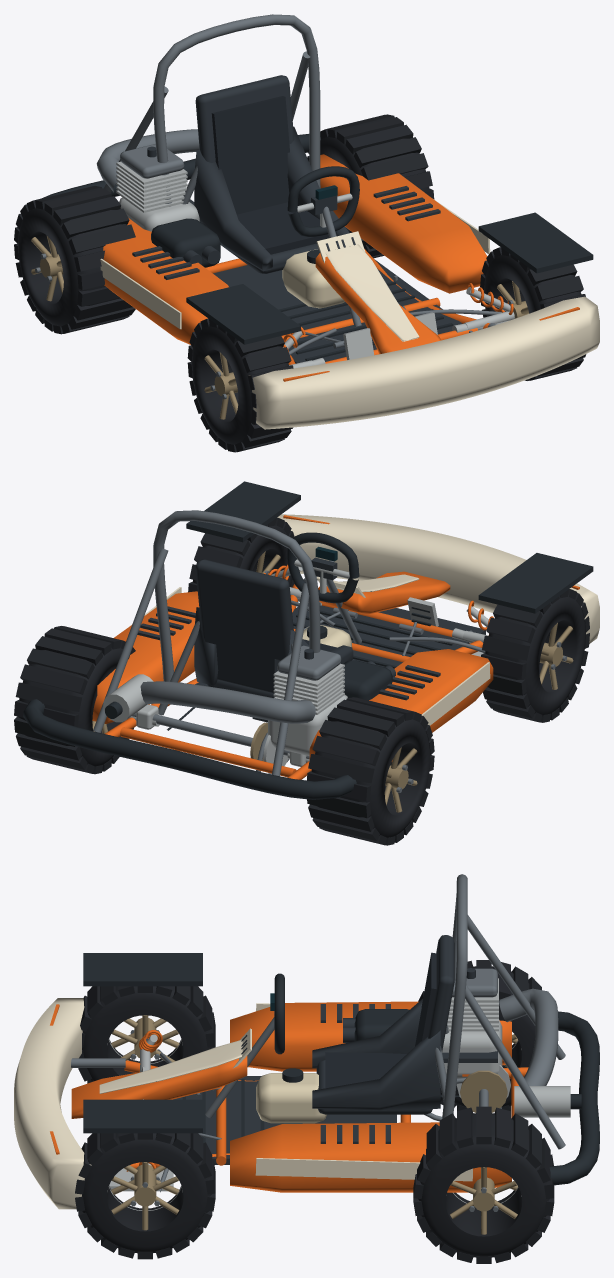
File: oopi.glb
3 views of the same model, one above another, from view 1: azimuth 30°, elevation 25°; view 2: azimuth 150°, elevation 25°; view 3: azimuth 270°, elevation 25° (orthographic). The views are drawn at different scales.
Visible parts, largest first — view 1: Slick vulcanised rubber (×4), Livery ivory (×2), paint, Satin composite, Moulded bumper polymer (×2), Steel fasteners, Seat fabric, Brushed alloy (×2), Fuel reservoir, Magnesium wheel centres (×2); view 2: Slick vulcanised rubber (×4), Moulded bumper polymer (×2), Satin composite, Steel fasteners, paint, Livery ivory (×2), Brushed alloy (×2), Magnesium wheel centres (×2), Fuel reservoir; view 3: Slick vulcanised rubber (×4), paint, Livery ivory (×2), Moulded bumper polymer (×2), Satin composite, Steel fasteners (×2), Magnesium wheel centres (×4), Brushed alloy, Seat fabric, Fuel reservoir.
Part boxes in pixels (x1,y1,x2,y2): Slick vulcanised rubber (×4): (14,114,586,452); Livery ivory (×2): (100,199,599,429); paint: (103,154,513,364); Satin composite: (132,75,462,363); Moulded bumper polymer (×2): (42,134,593,361); Steel fasteners: (96,14,501,355); Seat fabric: (211,96,337,254); Brushed alloy (×2): (116,161,514,368); Fuel reservoir: (282,249,344,308); Magnesium wheel centres (×2): (31,236,238,419); Slick vulcanised rubber (×4): (14,517,589,845); Moulded bumper polymer (×2): (23,481,593,799); Satin composite: (137,559,485,722); Steel fasteners: (93,510,485,776); paint: (92,564,493,779); Livery ivory (×2): (129,514,599,725); Brushed alloy (×2): (103,567,488,773); Magnesium wheel centres (×2): (384,623,573,812); Fuel reservoir: (302,625,351,647); Slick vulcanised rubber (×4): (75,960,554,1263); paint: (71,1001,528,1192); Livery ivory (×2): (14,998,472,1209); Moulded bumper polymer (×2): (83,953,599,1185); Satin composite: (115,935,497,1164); Steel fasteners (×2): (71,874,565,1192); Magnesium wheel centres (×4): (111,1015,517,1234); Brushed alloy: (109,978,570,1191); Seat fabric: (325,952,436,1088); Fuel reservoir: (256,1073,326,1123).
Size of the model in its own units: 2 by 1.42 by 2.7.
